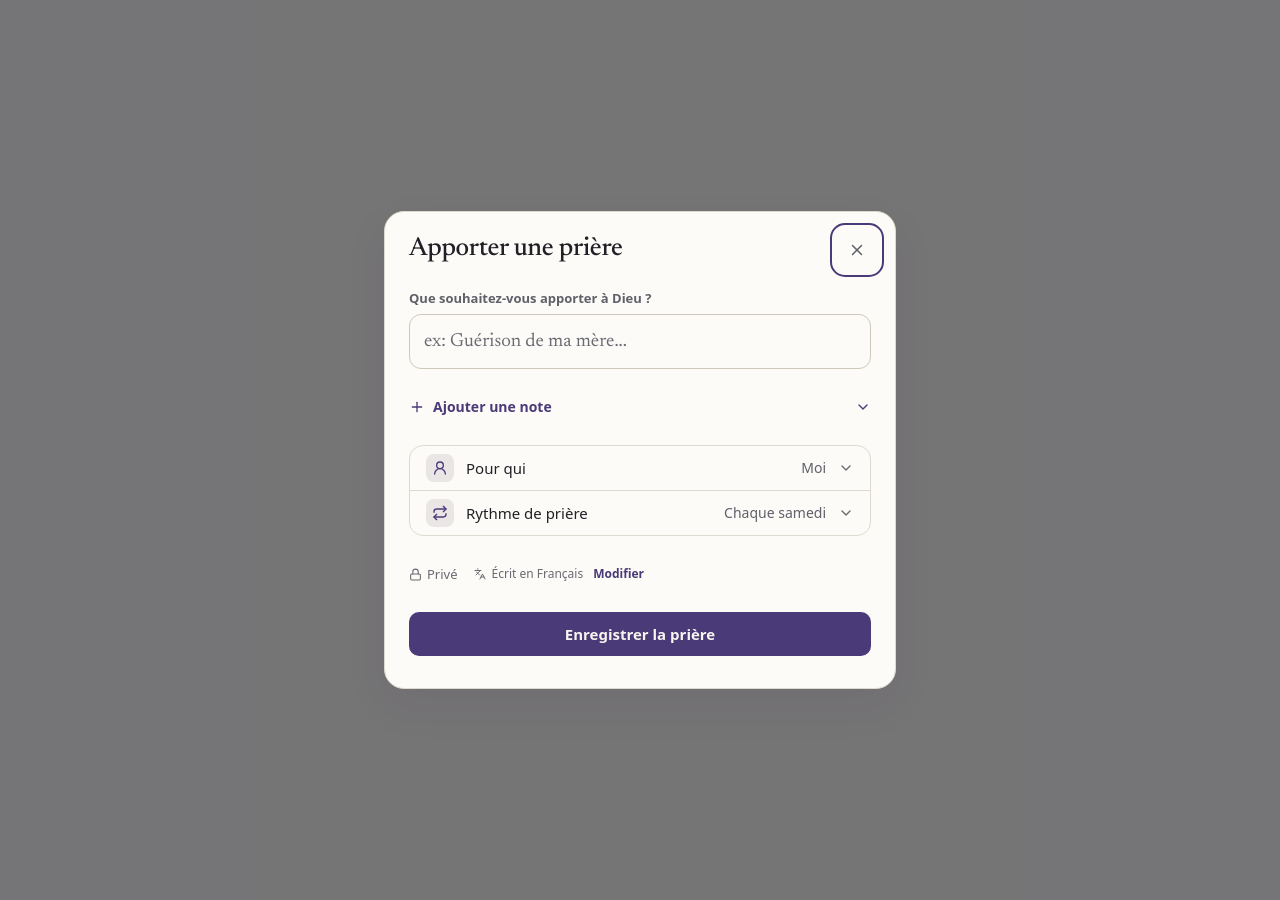
PrayerForm — the default rhythm is visible before saving › follows a changed rhythm immediately
The image size is (1280, 900).
// Open the editor, choose "every day", and use it.
Click the button "Rythme de prière Chaque samedi" at (527, 513), box [410,491,870,535]
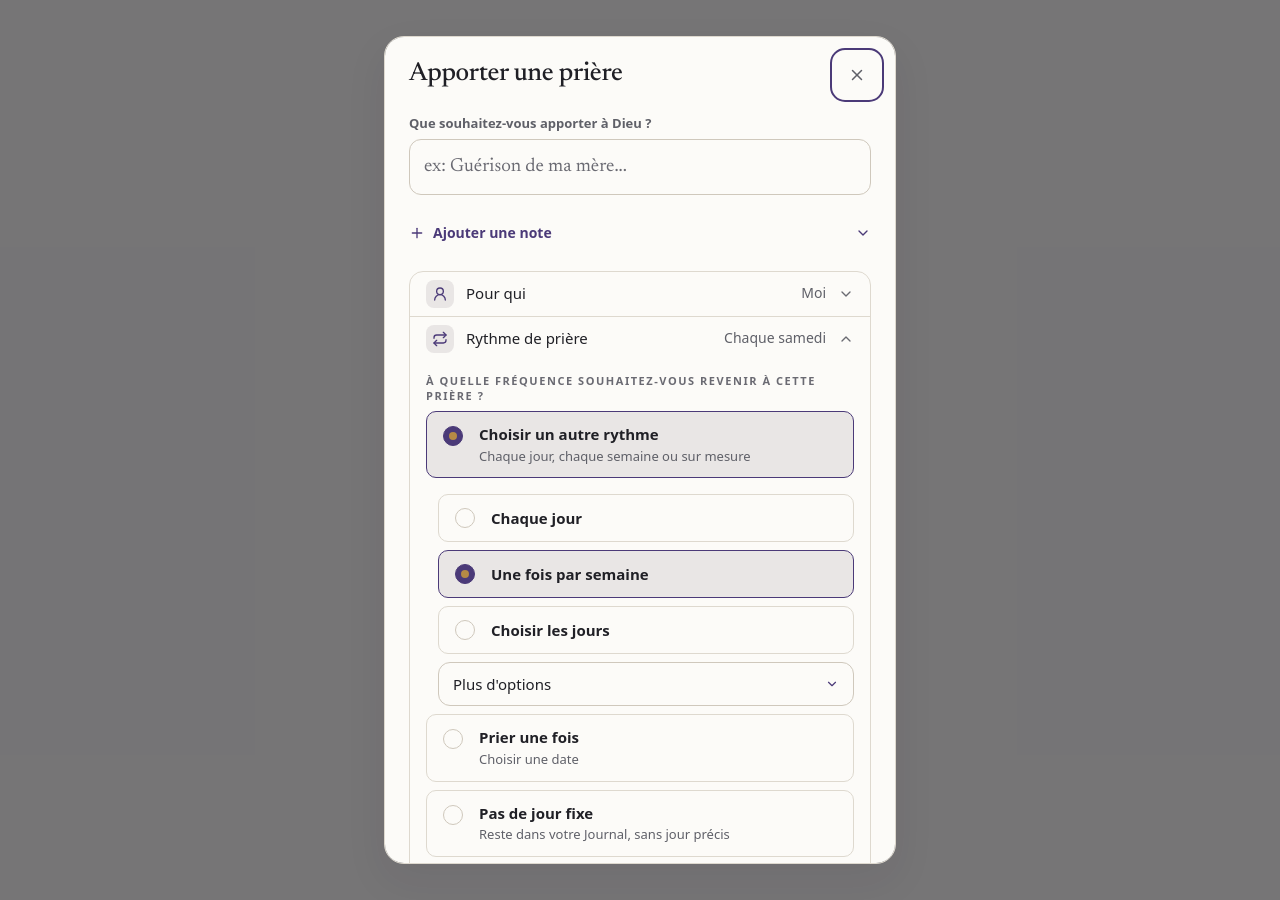
Click the text "Chaque jour" at (537, 518), box [491,508,582,528]
(page scrolled)
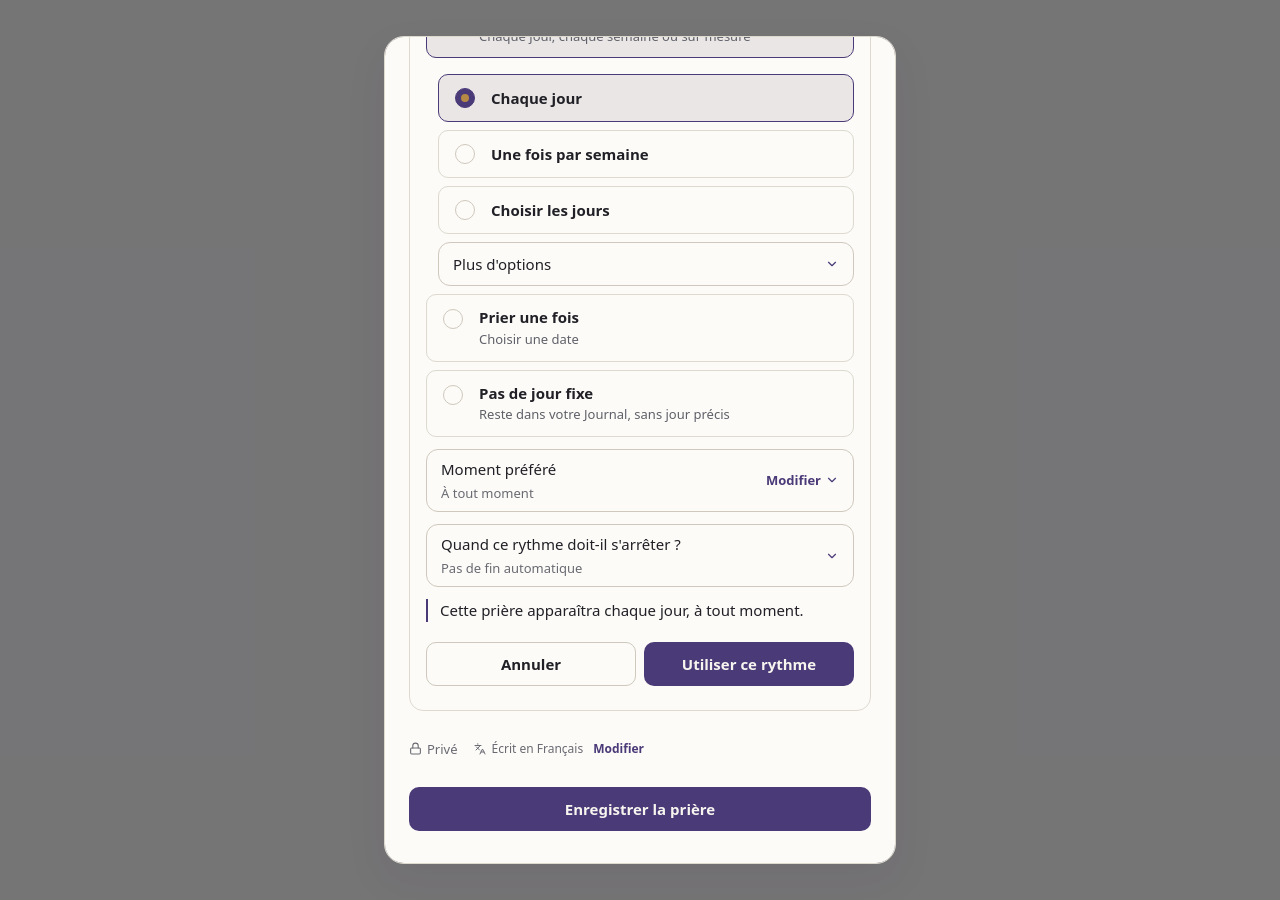
Click the button "Utiliser ce rythme" at (749, 664), box [644,642,854,686]
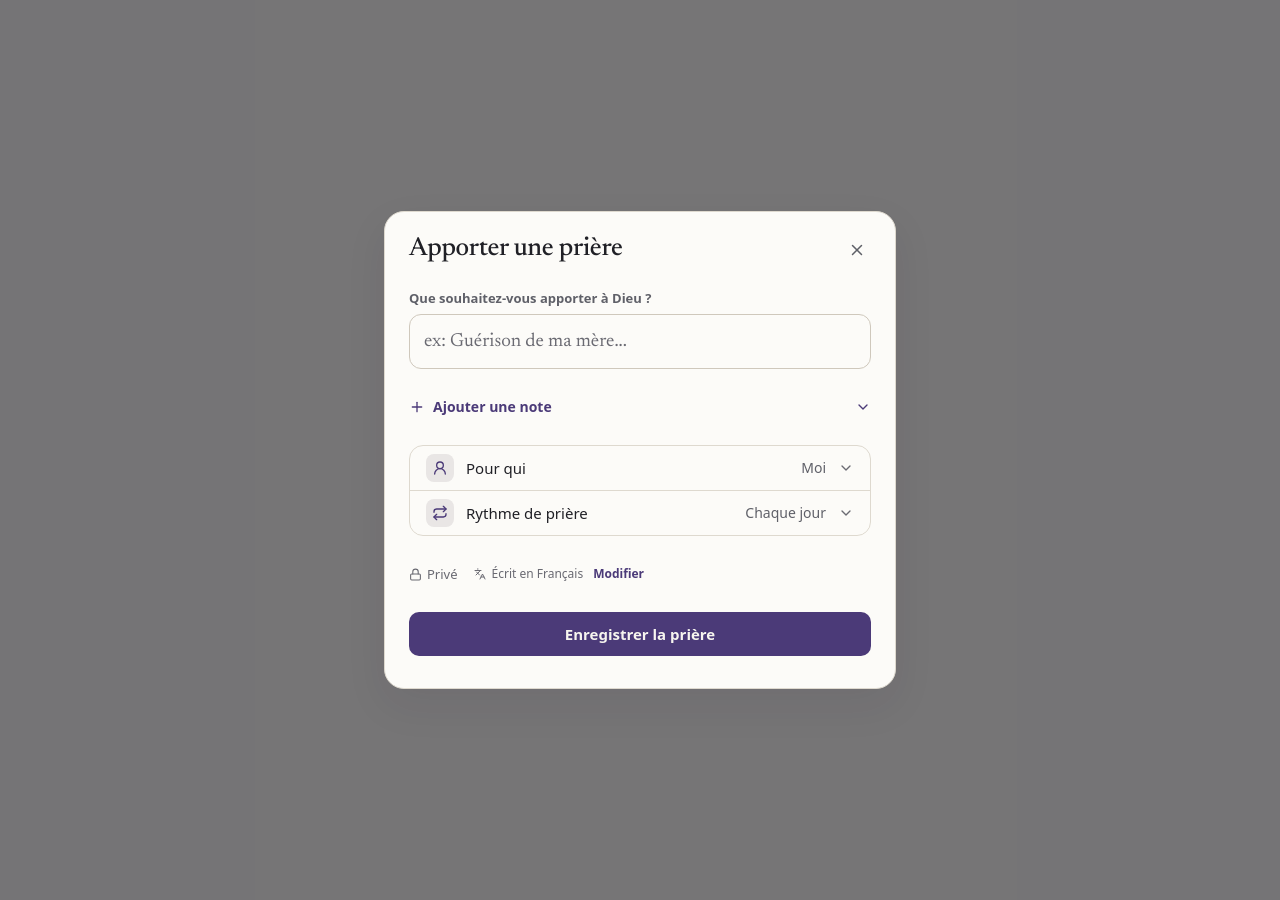
Now the button "Rythme de prière Chaque jour" is shown, box [410,491,870,535]
